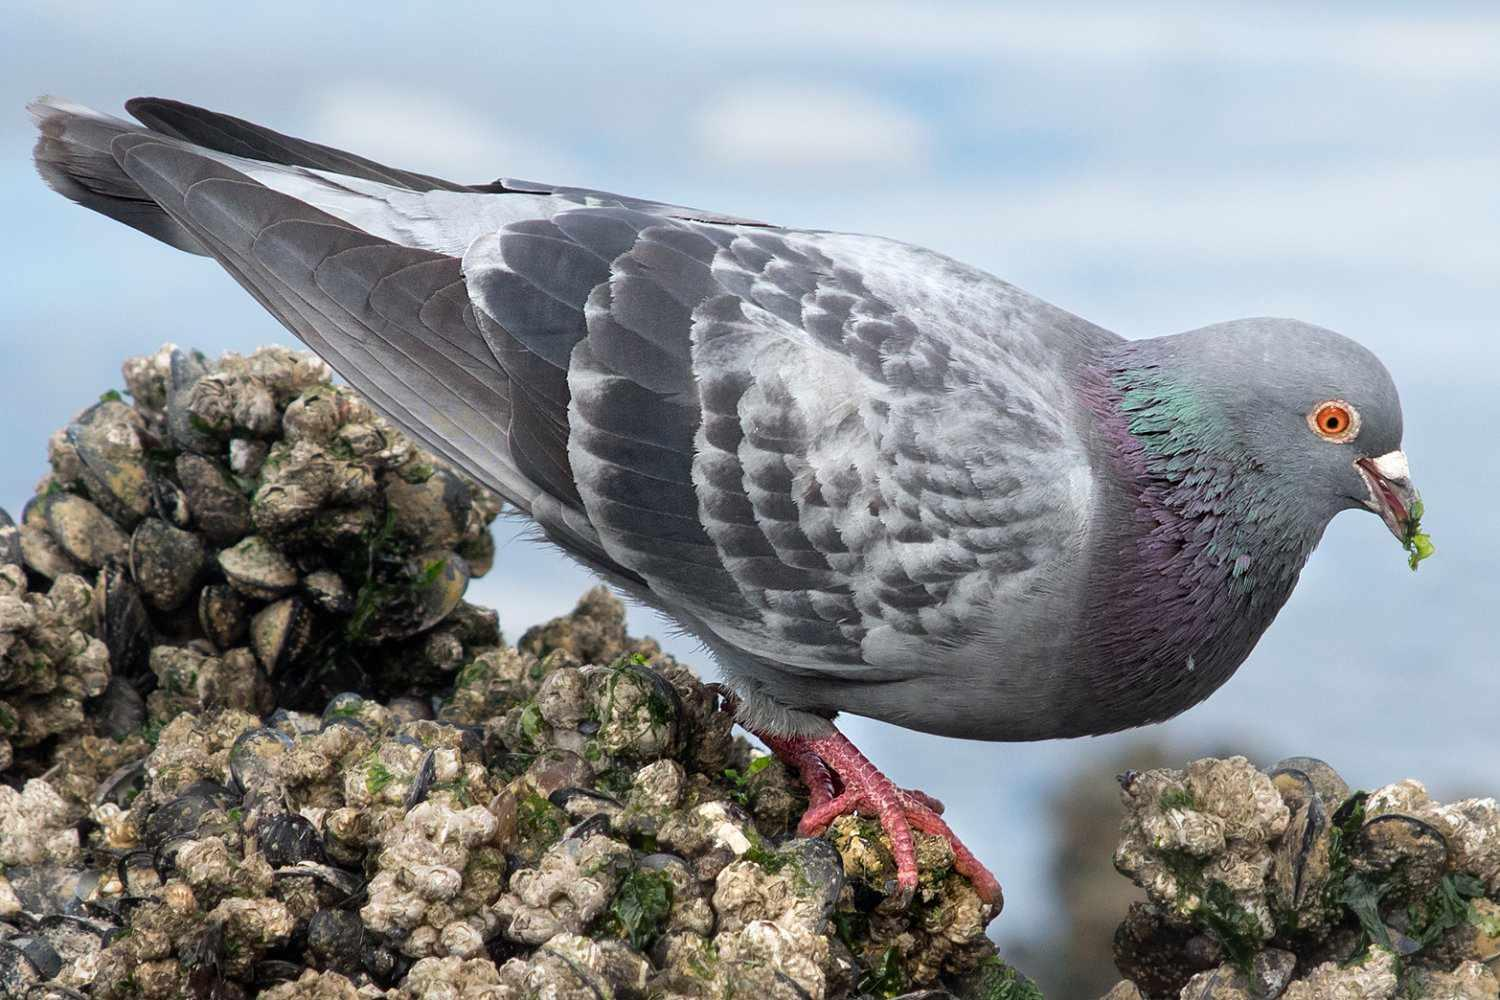Flying Rat: (28, 104, 1436, 833)
